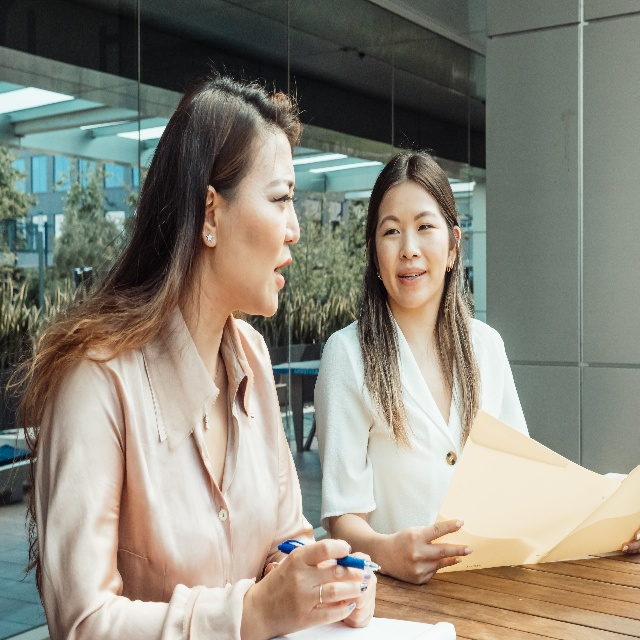Sin_guantes: (260, 535, 372, 635), (389, 516, 473, 589)
